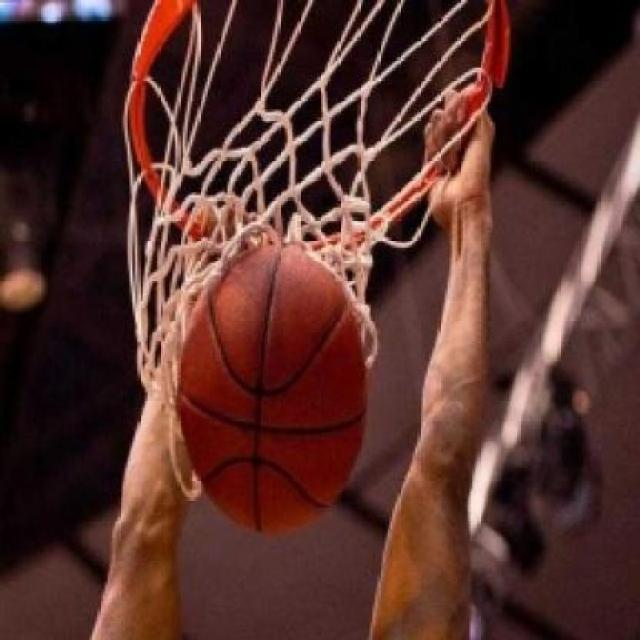basketball: (162, 236, 382, 548)
